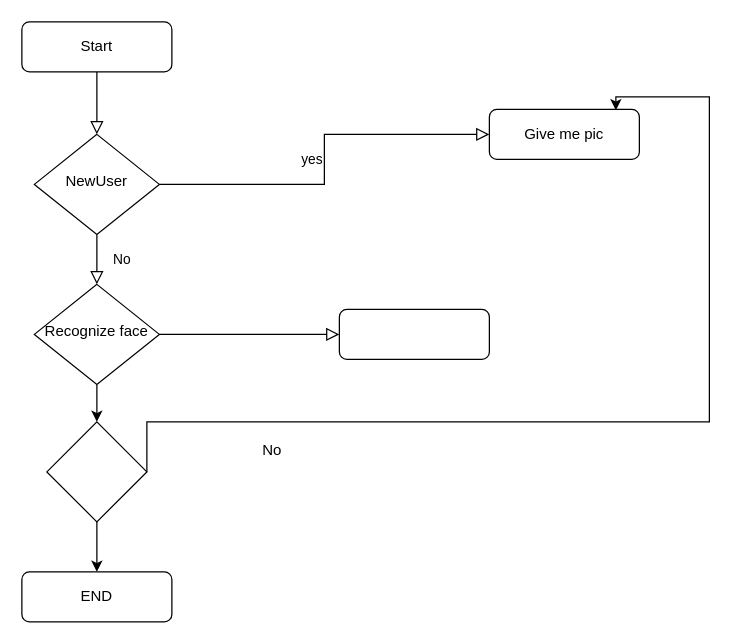
Some shapes in this 741 by 644 pixel diagram are drawn without their labels. Each missing label, with the centre of its shape:
"face recognize" goes at (x=96, y=471).
"No pic" goes at (x=413, y=333).
